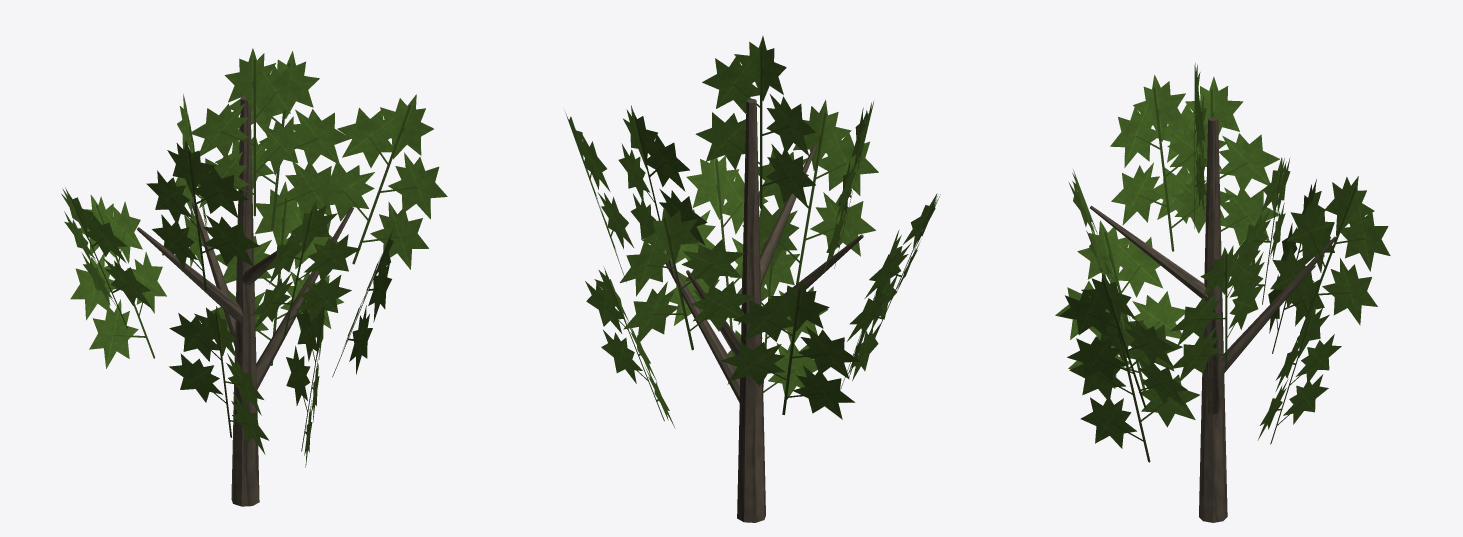
File: maple_sprig_lod0.glb
3 views of the same model, side by side, from view 1: azimuth 30°, elevation 25°; view 2: azimuth 150°, elevation 25°; view 3: azimuth 270°, elevation 25° (orthographic). The views are drawn at different scales.
Visible parts, largest first — view 1: maple_sprig_lod0_leaves, maple_sprig_lod0_wood; view 2: maple_sprig_lod0_leaves, maple_sprig_lod0_wood; view 3: maple_sprig_lod0_leaves, maple_sprig_lod0_wood.
Part boxes in pixels (x1,y1,x2,y2): maple_sprig_lod0_leaves: (61, 48, 447, 467); maple_sprig_lod0_wood: (137, 96, 353, 506); maple_sprig_lod0_leaves: (565, 36, 940, 428); maple_sprig_lod0_wood: (663, 98, 863, 522); maple_sprig_lod0_leaves: (1055, 63, 1390, 462); maple_sprig_lod0_wood: (1090, 117, 1335, 522).
Bounding box in the file's own units: 1.13 × 1.2 × 1.06.
Materials: 2 (2 with a texture image).
